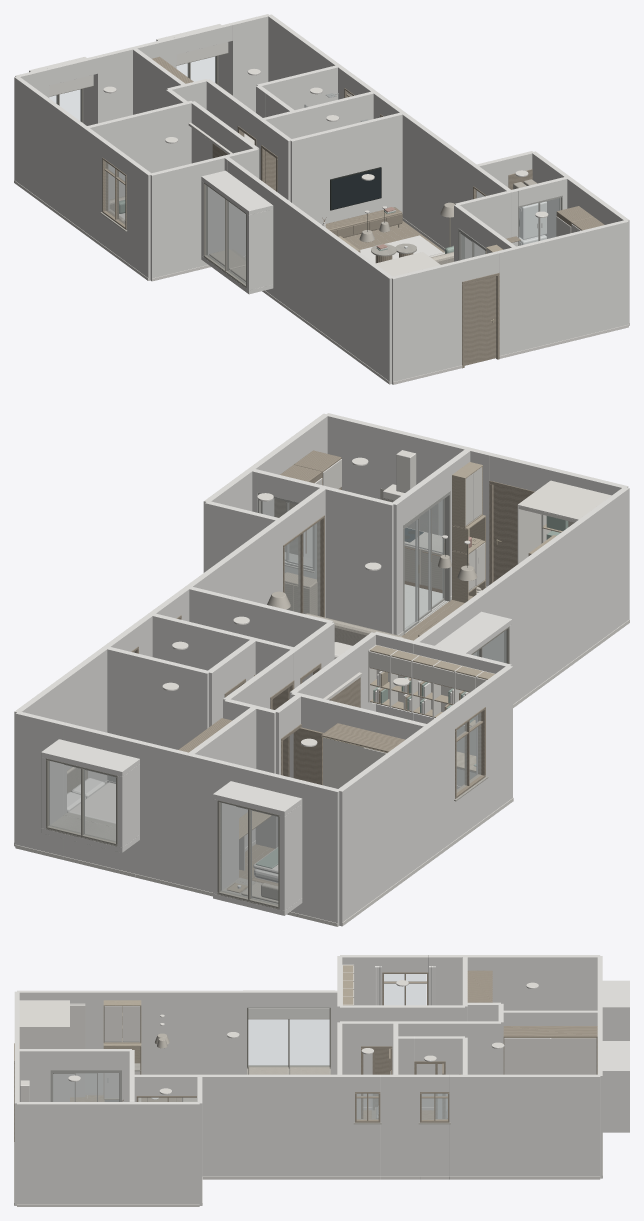
File: huiyayuan-wood.glb
The picture shows the model from 3 angles, top to bottom: view 1: azimuth 30°, elevation 25°; view 2: azimuth 150°, elevation 25°; view 3: azimuth 270°, elevation 25°; orthographic projection. The views are drawn at different scales.
Parts seen in each view (by area): view 1: Wall 04 / pier.001, Wall 03 / pier.001, Wall 01 / pier, Wall 23 / pier, Wall 04 / pier, Wall 07 / pier.002, Wall 02 / pier, Wall 15 / pier, Wall 00 / pier.001, Wall 00 / pier.002, Wall 07 / pier, Wall 21 / pier (+40 smaller); view 2: Wall 03 / pier.001, Wall 01 / pier, Wall 00 / pier.001, Wall 10 / pier, Wall 20 / pier, Wall 04 / pier.001, Wall 00 / pier, Wall 00 / pier.002, Wall 07 / pier, Wall 07 / pier.002, Wall 23 / pier, Wall 21 / pier (+60 smaller); view 3: Wall 05 / pier, Wall 07 / pier.002, Wall 07 / pier, Wall 03 / pier.001, Wall 01 / pier, Wall 07 / pier.001, Wall 14 / pier, window_living_west / bay clear glazing panel, window_living_west / bay clear glazing panel.001, 主卧衣柜 sliding door, 主卧衣柜 sliding door.001, Wall 07 / sill (+48 smaller).
Boxes of the visible parts, x1,y1,x2,y2 form: Wall 04 / pier.001: (497, 220, 628, 355); Wall 03 / pier.001: (271, 191, 393, 384); Wall 01 / pier: (14, 76, 106, 244); Wall 23 / pier: (290, 112, 402, 224); Wall 04 / pier: (391, 260, 461, 384); Wall 07 / pier.002: (393, 107, 476, 248); Wall 02 / pier: (150, 155, 226, 281); Wall 15 / pier: (87, 101, 193, 199); Wall 00 / pier.001: (95, 37, 176, 123); Wall 00 / pier.002: (230, 14, 270, 112); Wall 07 / pier: (268, 14, 348, 99); Wall 21 / pier: (261, 91, 373, 138); Wall 03 / pier.001: (473, 487, 629, 704); Wall 01 / pier: (339, 708, 454, 926); Wall 00 / pier.001: (135, 740, 238, 892); Wall 10 / pier: (323, 486, 394, 634); Wall 20 / pier: (107, 647, 208, 782); Wall 04 / pier.001: (325, 413, 492, 586); Wall 00 / pier: (297, 780, 340, 926); Wall 00 / pier.002: (15, 711, 66, 856); Wall 07 / pier: (14, 639, 118, 846); Wall 07 / pier.002: (175, 519, 282, 621); Wall 23 / pier: (189, 586, 333, 682); Wall 21 / pier: (151, 613, 295, 695); Wall 05 / pier: (17, 1102, 199, 1203); Wall 07 / pier.002: (199, 1074, 354, 1176); Wall 07 / pier: (449, 1074, 600, 1176); Wall 03 / pier.001: (17, 990, 246, 1092); Wall 01 / pier: (428, 955, 600, 1010); Wall 07 / pier.001: (380, 1074, 419, 1176); Wall 14 / pier: (437, 1021, 500, 1118); window_living_west / bay clear glazing panel: (290, 1019, 329, 1065); window_living_west / bay clear glazing panel.001: (248, 1019, 287, 1065); 主卧衣柜 sliding door: (550, 1038, 596, 1074); 主卧衣柜 sliding door.001: (504, 1038, 550, 1074); Wall 07 / sill: (420, 1124, 449, 1176).
Size of what is drawn, in the model's own units: 8.46 by 2.71 by 14.67.
Materials: 23 (4 with a texture image).
